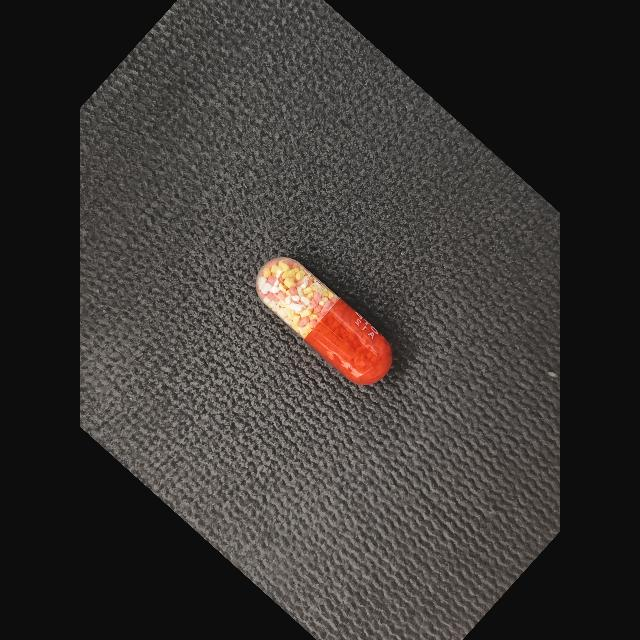Intact Capsule: (256, 257, 393, 385)
